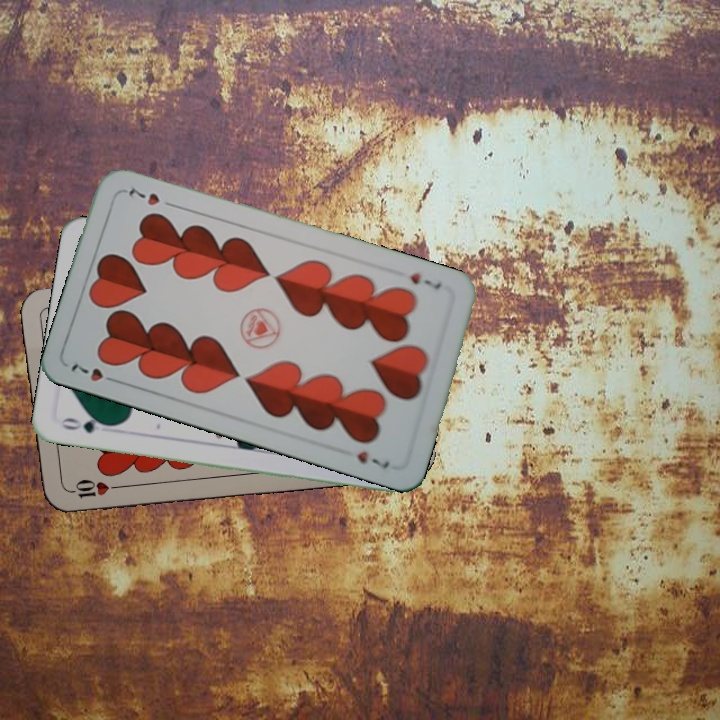GO: (57, 413, 116, 436)
H10: (63, 476, 123, 501)
H7: (66, 358, 123, 386), (406, 268, 444, 293)
